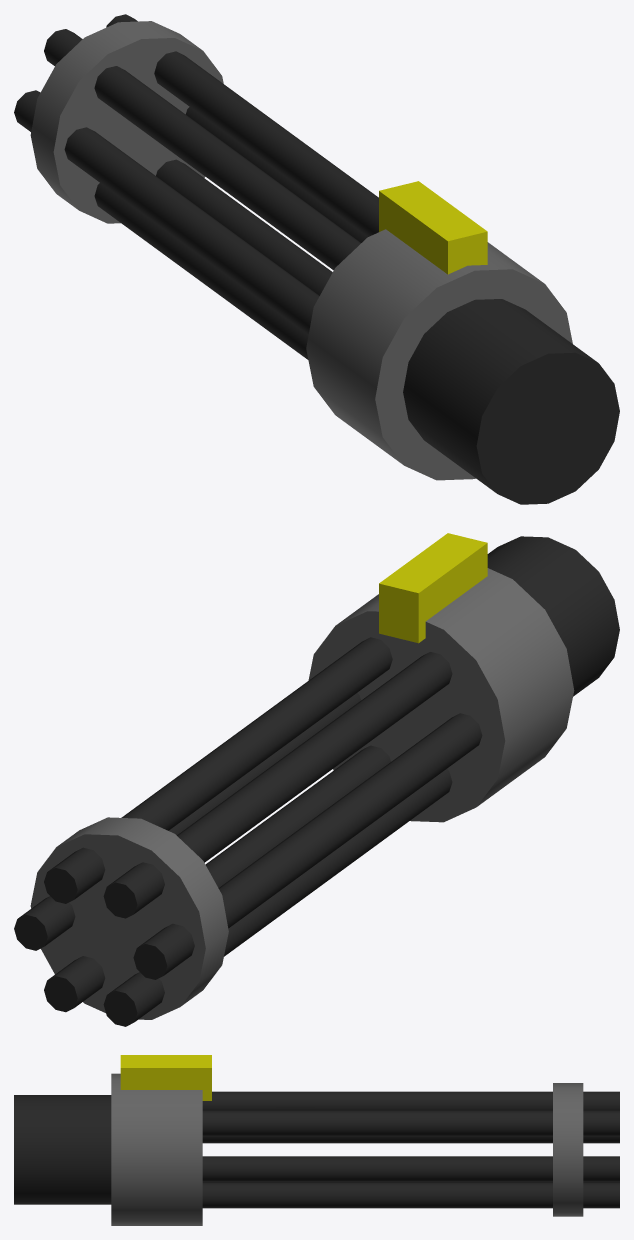
The model's file is boss_bastion_gun.obj.
3 views of the same model, one above another, from view 1: azimuth 30°, elevation 25°; view 2: azimuth 150°, elevation 25°; view 3: azimuth 270°, elevation 25° (orthographic). The views are drawn at different scales.
Visible parts, largest first — view 1: gun, hub, mark; view 2: gun, hub, mark; view 3: gun, hub, mark.
Part boxes in pixels (x1,y1,x2,y2): gun: (14,14,619,504); hub: (30,21,572,480); mark: (379,181,487,274); gun: (14,536,619,1026); hub: (30,568,574,1019); mark: (379,533,487,643); gun: (14,1091,619,1208); hub: (111,1073,583,1225); mark: (120,1055,211,1100).
Size of the model in its own units: 0.5 by 0.57 by 1.99.
